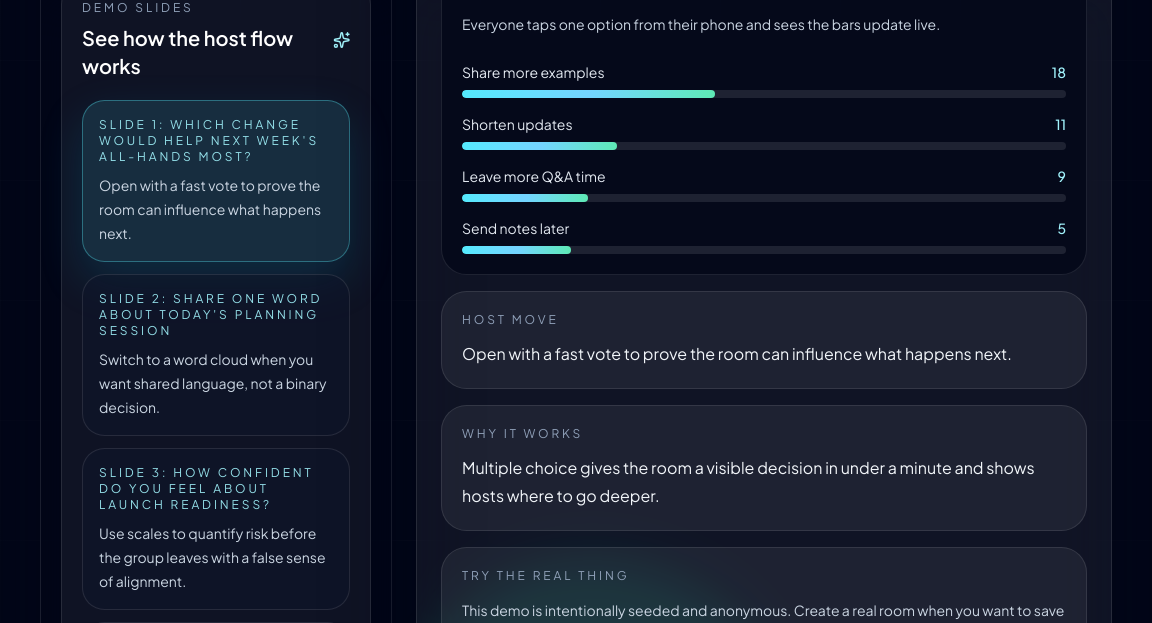
Test case: DemoHostWorkspace › switches between seeded demo slides without requiring authentication
(page scrolled)
Click the button "Slide 2: Share one word about today's planning session" at (216, 355), box [82,274,350,436]
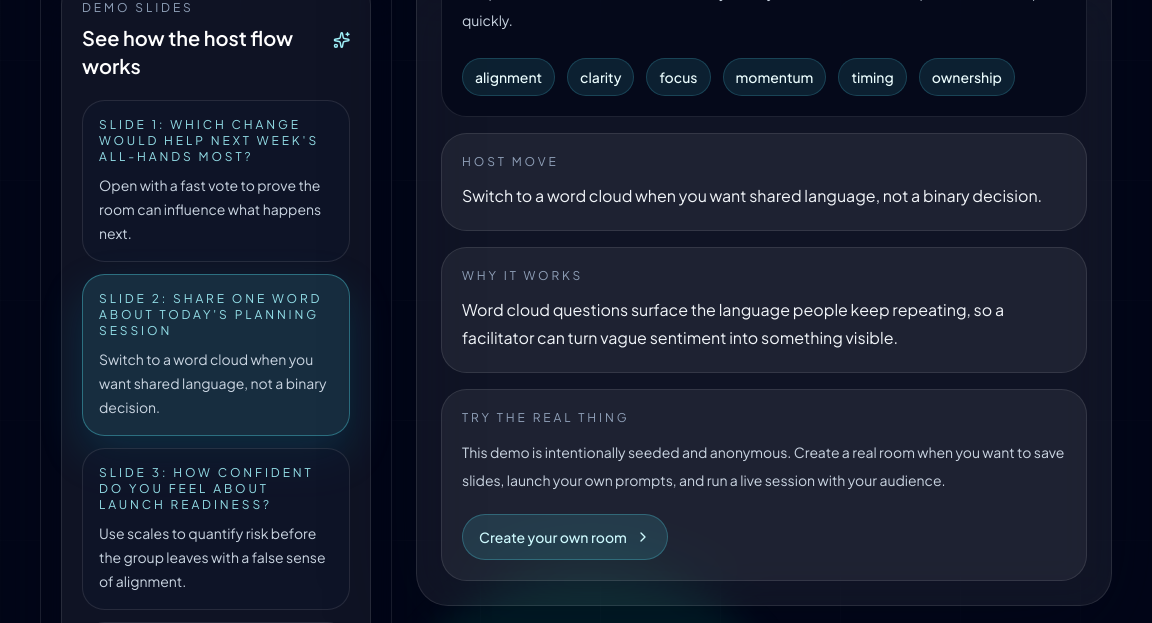
Result: the text "Word cloud questions surface the language people keep repeating" is shown at [462,299,1004,348]
